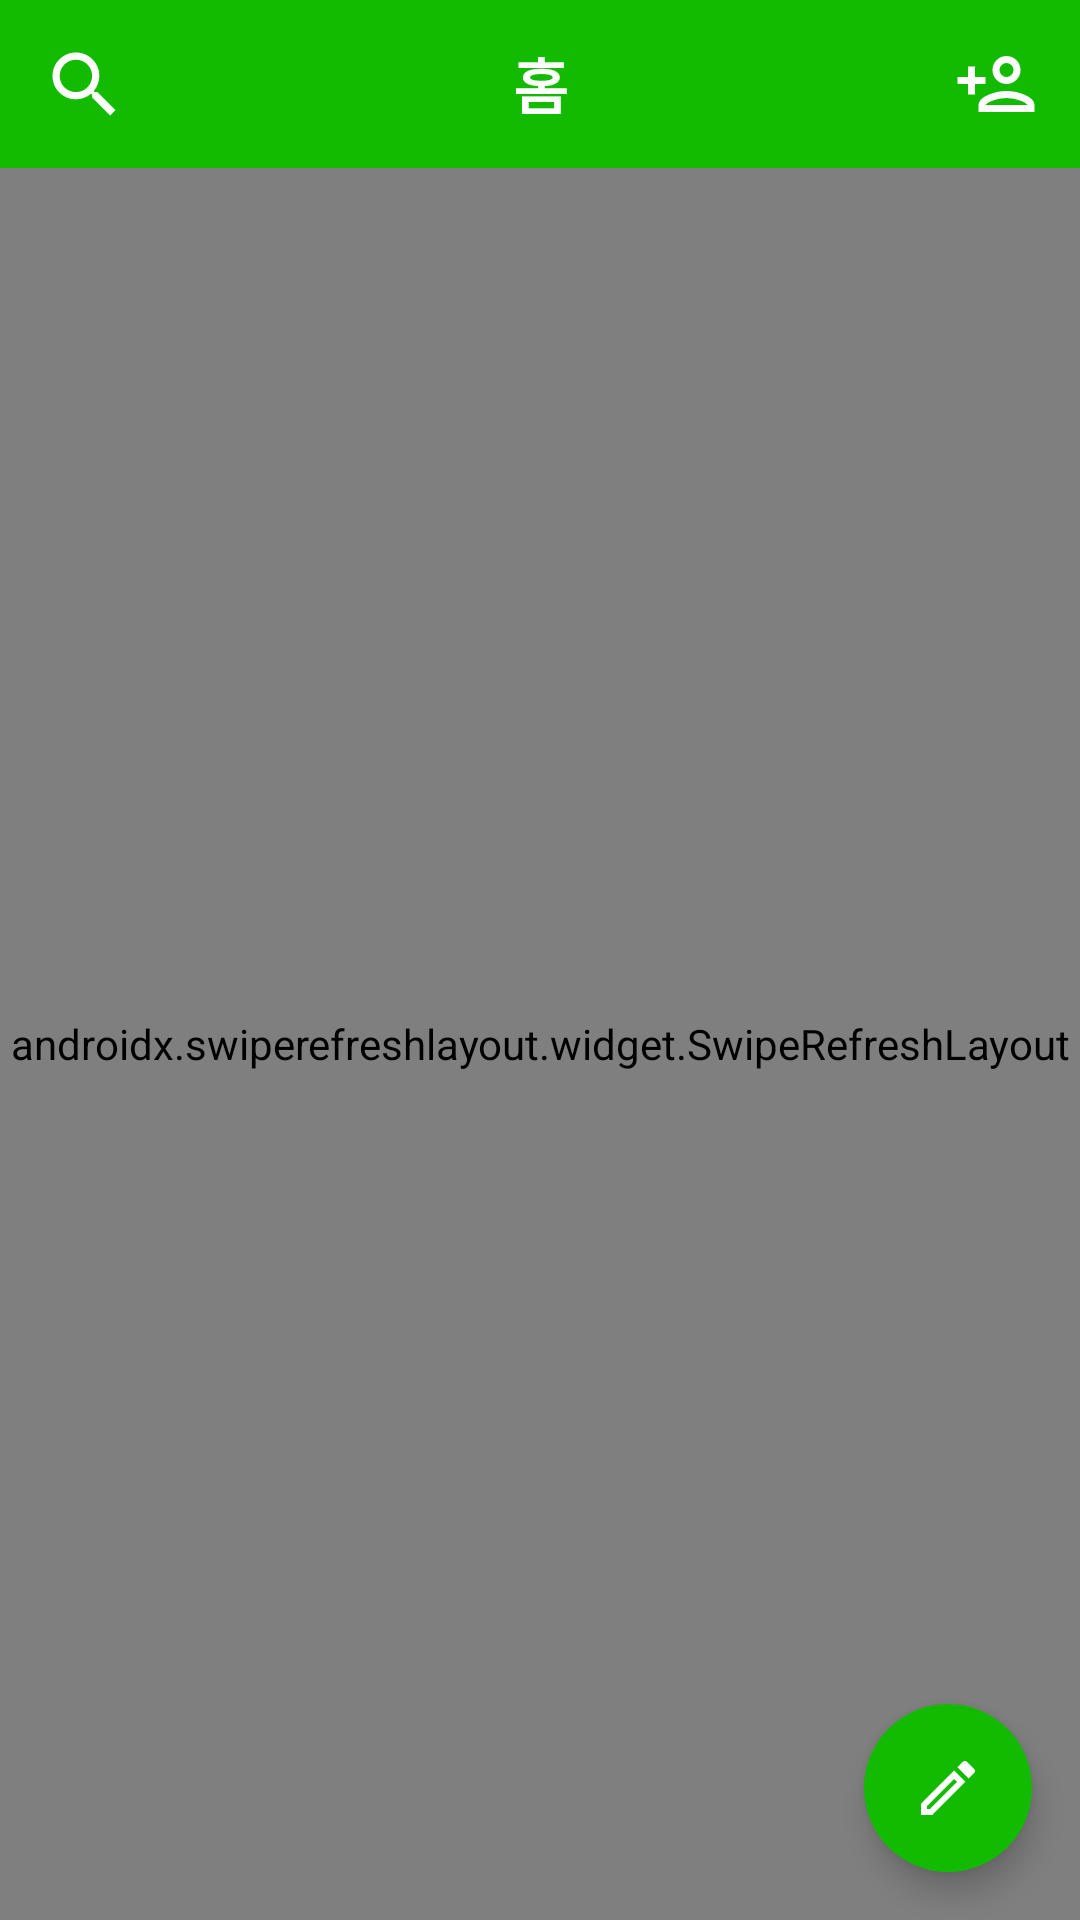

Icon bounding boxes for this 1080x1920 phone screenshot, format region(x1, y1, x2, y2):
edit: region(864, 1704, 1032, 1872)
invite: region(957, 56, 1035, 112)
search: region(52, 52, 116, 116)
